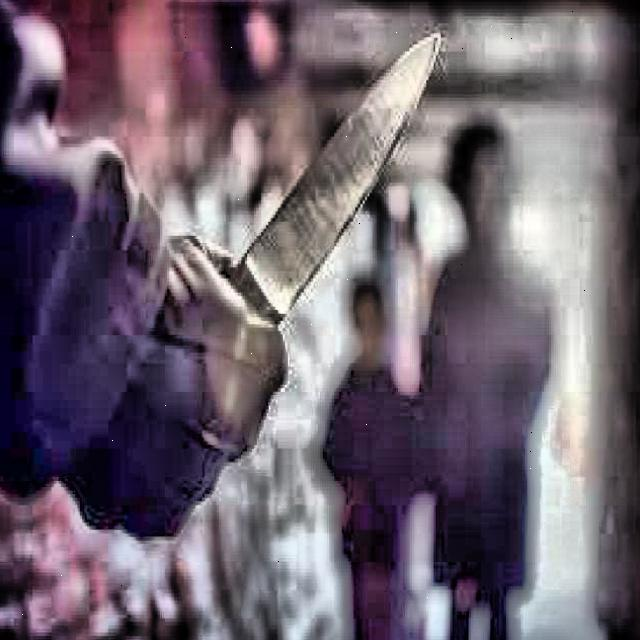knife: (197, 19, 449, 388)
